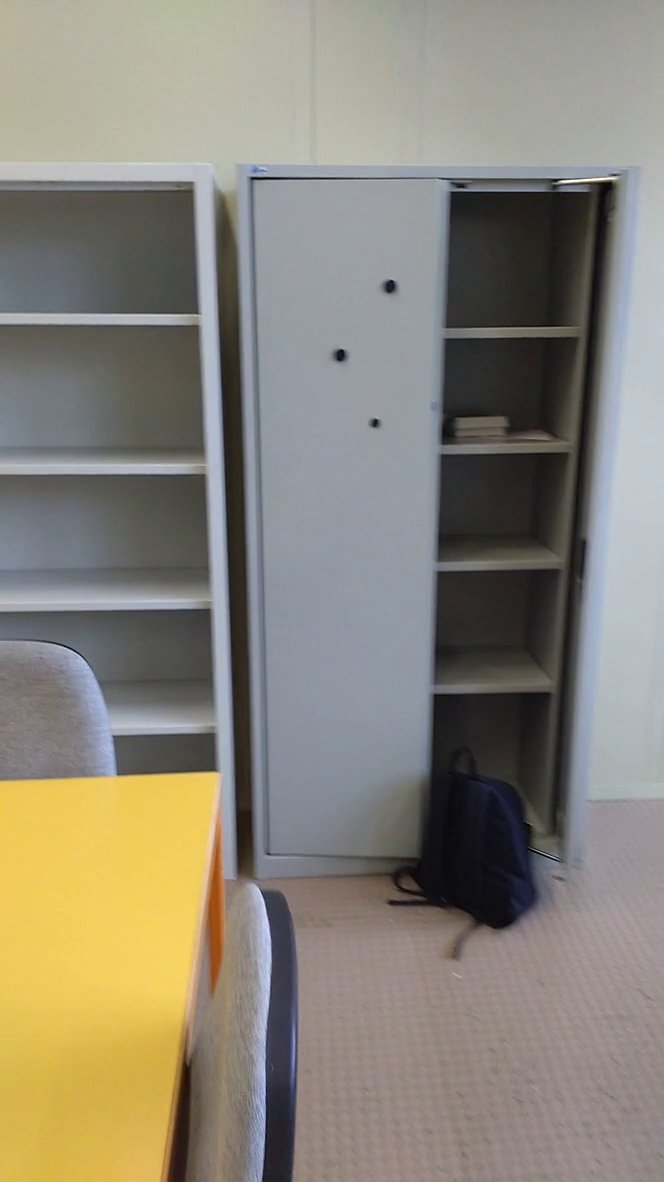bag: (388, 746, 546, 937)
chair: (166, 873, 328, 1182)
